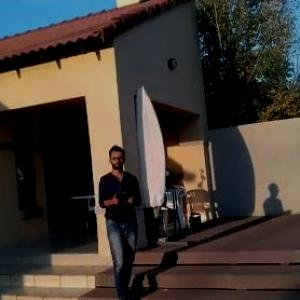follow: (95, 141, 149, 299)
